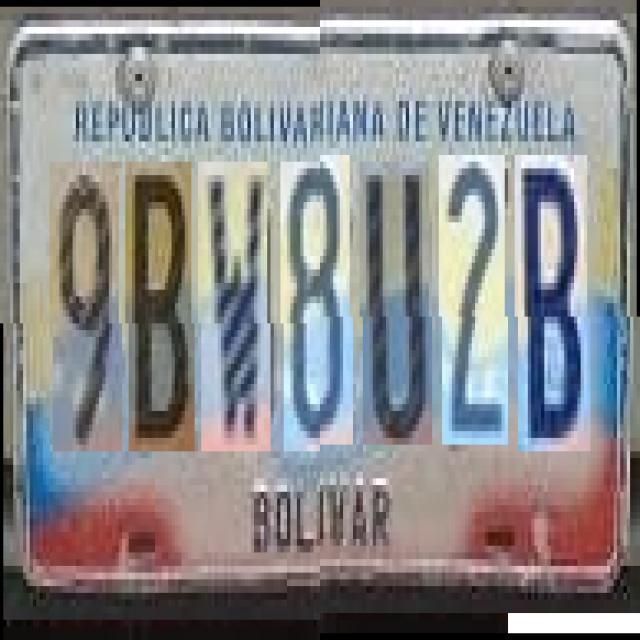2: (442, 162, 508, 452)
8: (284, 162, 354, 452)
9: (52, 162, 122, 452)
B: (518, 162, 590, 458), (128, 162, 194, 452)
U: (362, 168, 432, 452)
W: (201, 162, 271, 452)
